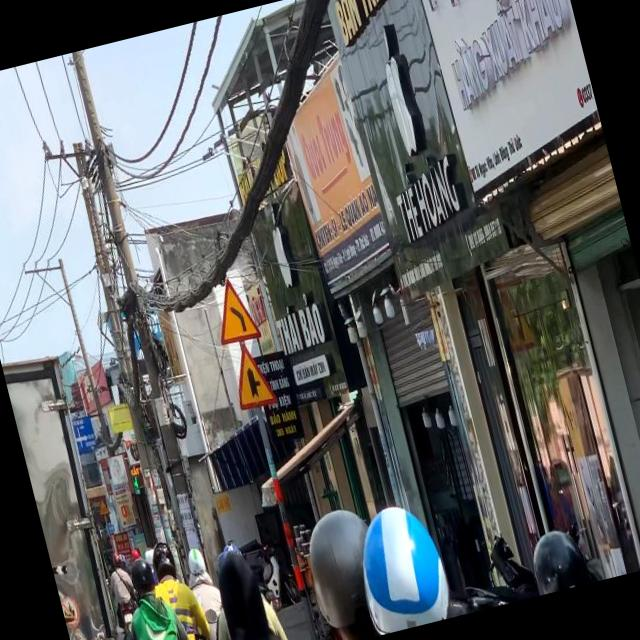W-201a: (207, 276, 259, 344)
W-207b: (223, 334, 279, 410)
